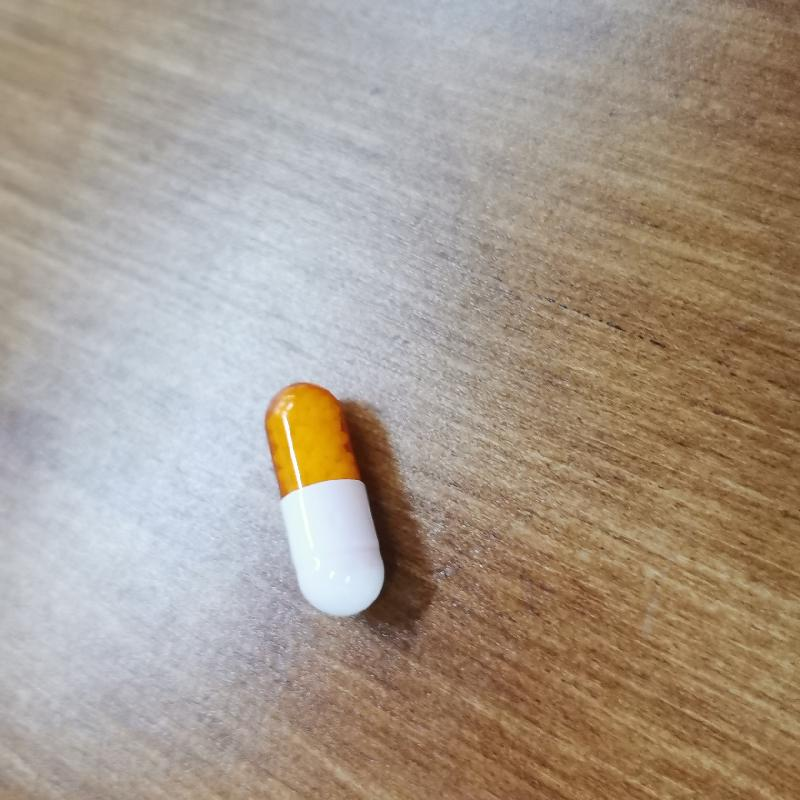pills: (245, 380, 419, 627)
